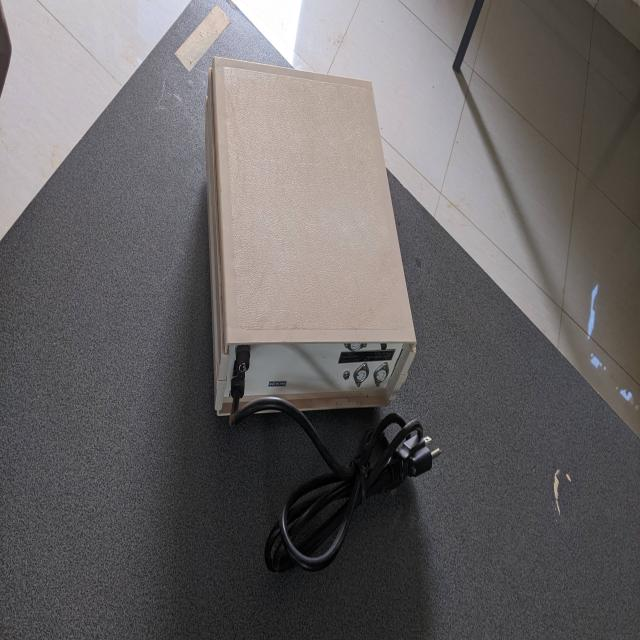Freefall Digital Timer: (202, 50, 417, 454)
